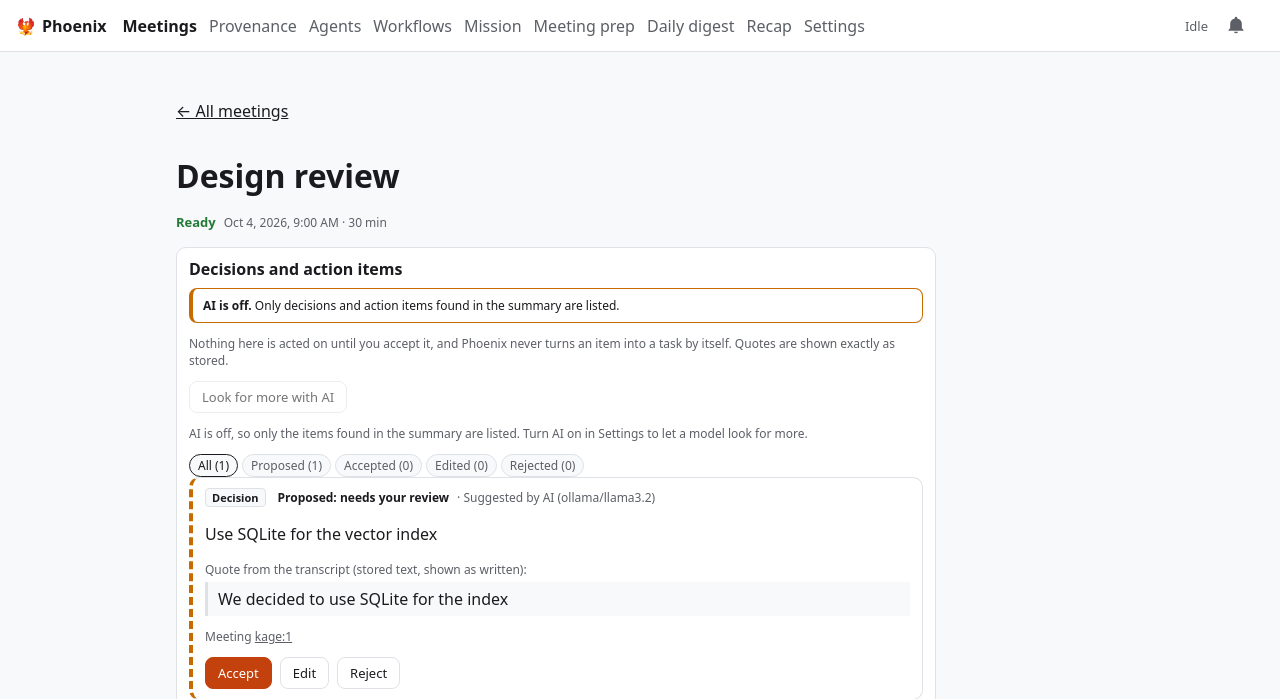
Test: Decisions and action items of a meeting › does not claim a rejected item was 'not remembered' when memory refuses to store nothing
Click the button with aria-label "Reject decision".
click(369, 673)  # box [337,657,400,689]
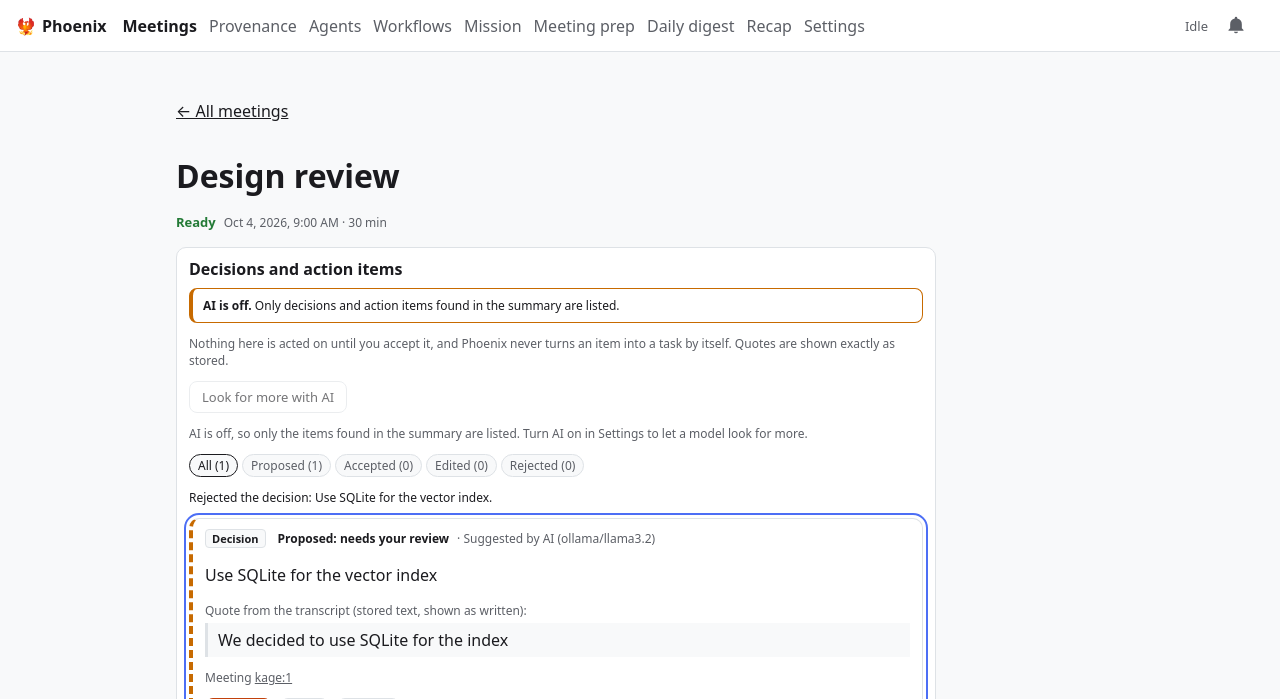
Now the text "Rejected the decision: Use SQLite for the vector index." is shown, box [189,489,492,506]
